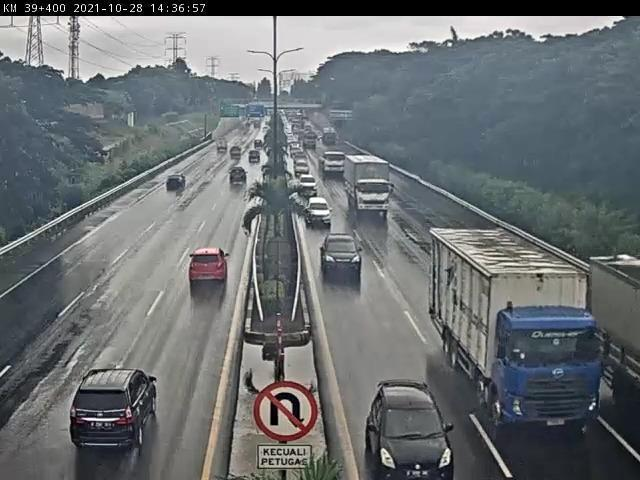car: (383, 382, 463, 472), (58, 363, 146, 428), (182, 241, 232, 301), (325, 233, 357, 287), (312, 190, 331, 229), (158, 179, 182, 201), (228, 173, 248, 194), (302, 175, 317, 188)
truck: (477, 273, 590, 418), (349, 155, 389, 223), (321, 151, 343, 171)
